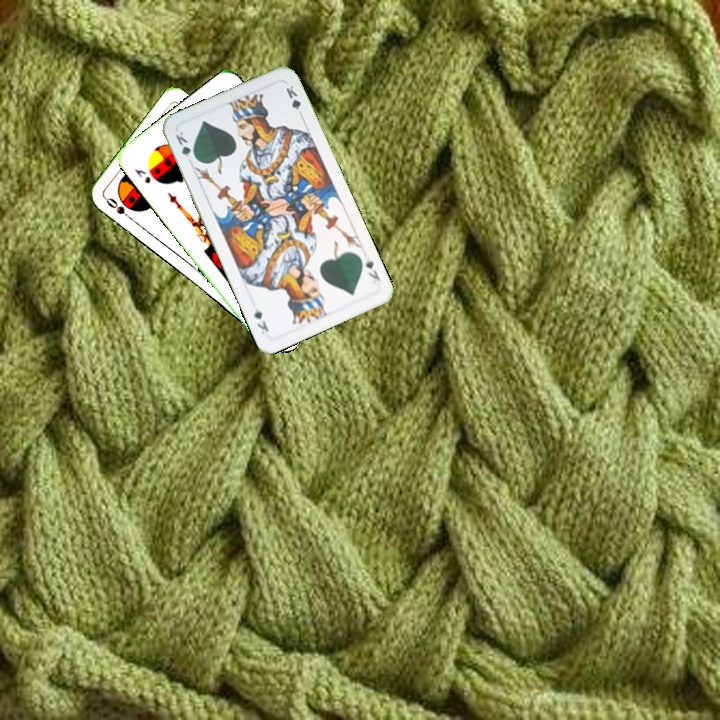GK: (171, 127, 199, 163), (361, 253, 383, 283)
SK: (130, 165, 153, 186)
SO: (101, 193, 135, 223)
